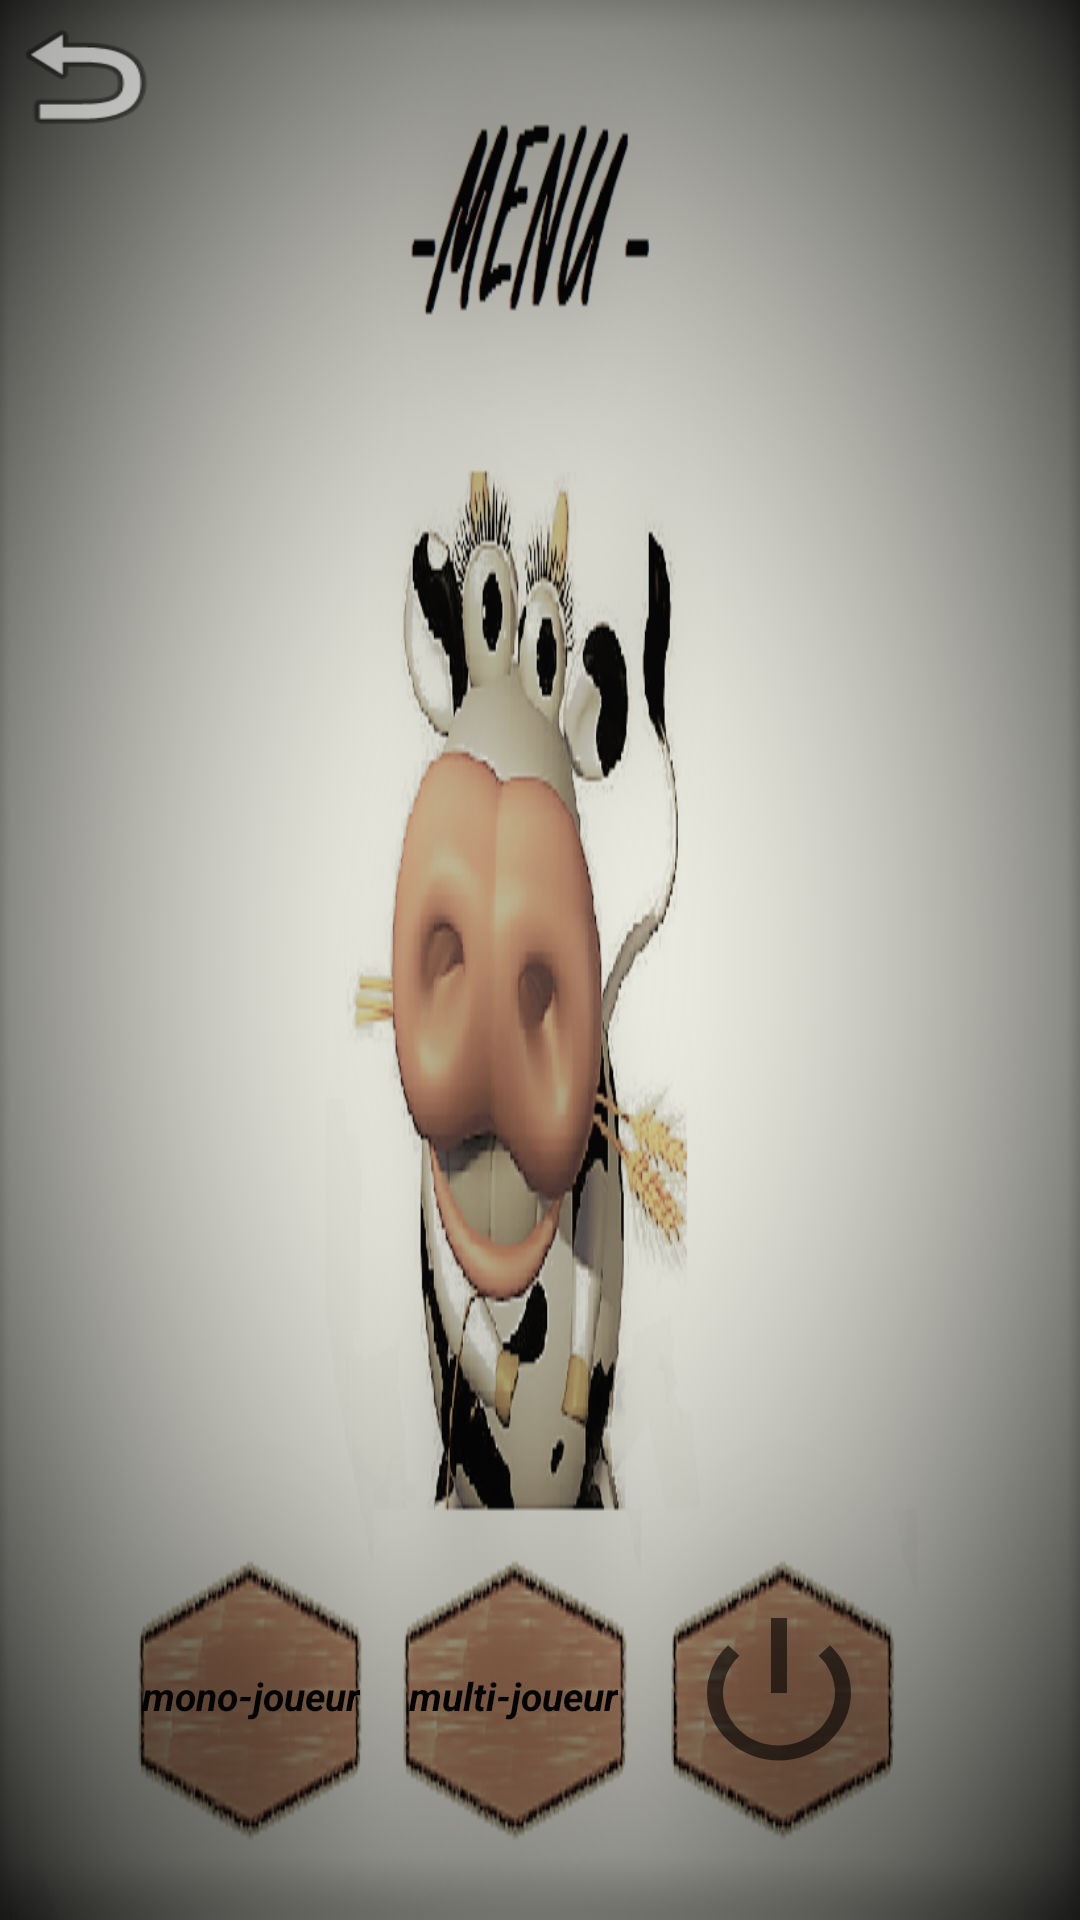

Point at icon controls on the screen. Image size 1080 x 1920, points as point (x, y).
lock power off: point (779, 1693)
revert: point (84, 76)
